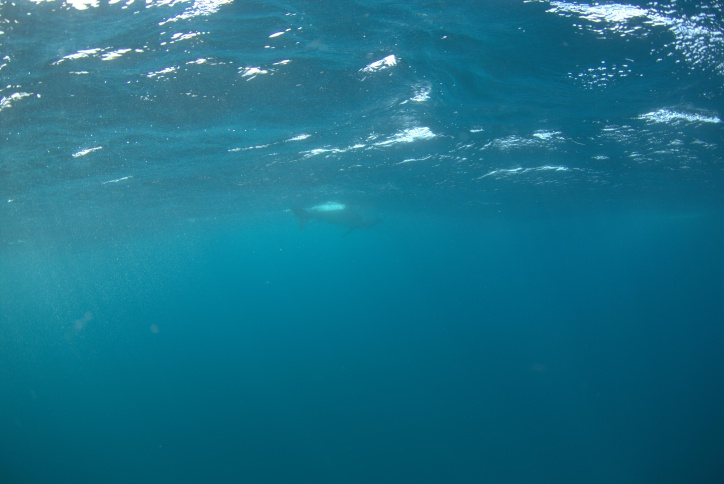Hammer: (287, 193, 389, 240)
